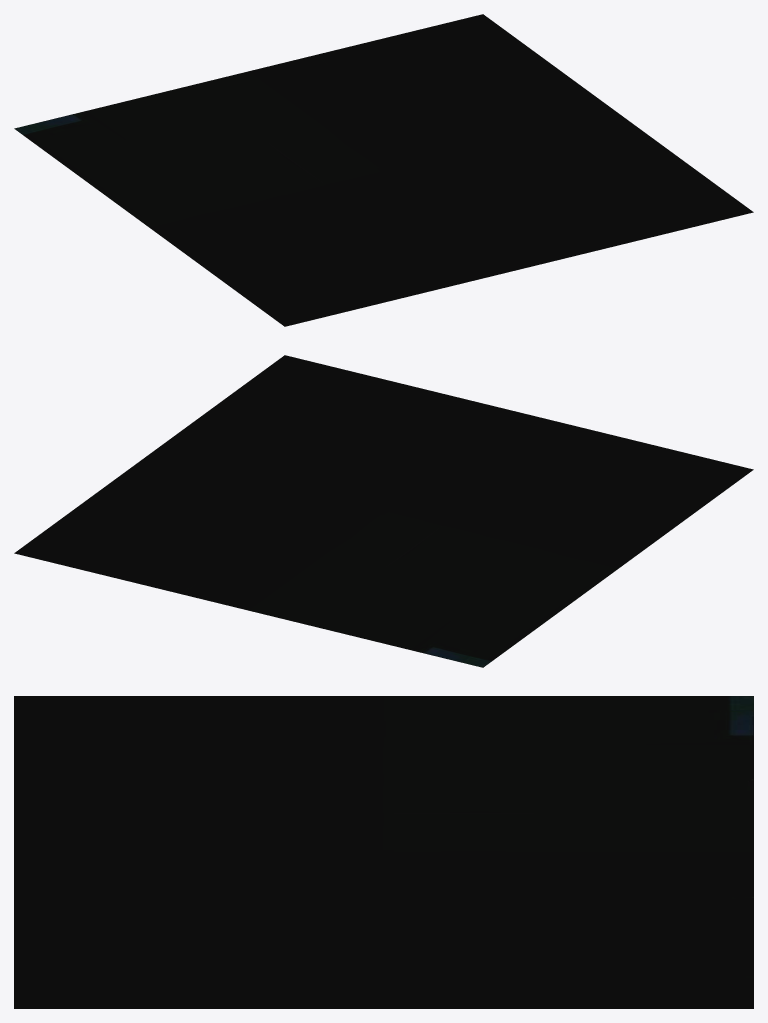
File: map_10_254_426.dae
The picture shows the model from 3 angles, top to bottom: view 1: azimuth 30°, elevation 25°; view 2: azimuth 150°, elevation 25°; view 3: azimuth 270°, elevation 25°; orthographic projection. The views are drawn at different scales.
Visible parts, largest first — view 1: Ter0; view 2: Ter0; view 3: Ter0.
Boxes of the visible parts, box(x1,y1,x2,y2) form: Ter0: box(14, 14, 753, 326); Ter0: box(14, 355, 753, 667); Ter0: box(14, 696, 753, 1008).
Size of the model in its own units: 2044 by 2044 by 0.
3 materials, 3 textured.
